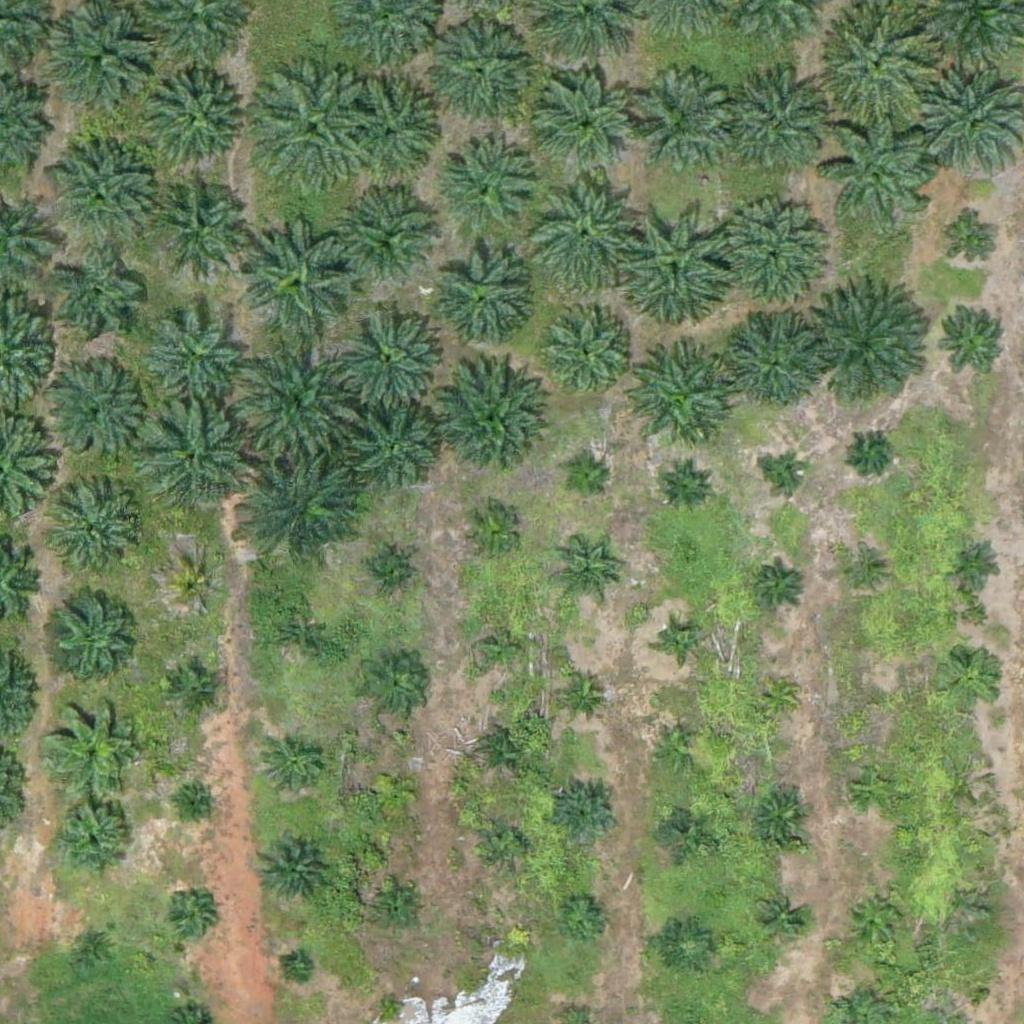Kelapa_Sawit: (615, 204, 740, 330), (523, 170, 648, 296), (248, 65, 373, 191), (233, 335, 358, 461), (241, 446, 366, 572), (811, 285, 936, 410), (432, 366, 545, 480), (823, 112, 936, 225), (712, 198, 825, 311), (141, 404, 254, 517), (46, 139, 159, 252), (333, 296, 445, 410), (243, 216, 355, 330), (824, 7, 936, 120), (621, 348, 733, 461), (722, 309, 822, 410), (728, 74, 828, 175), (627, 73, 727, 174), (537, 76, 637, 177), (536, 303, 636, 404), (425, 23, 525, 124), (437, 139, 537, 240), (339, 72, 439, 173), (145, 305, 245, 406), (49, 251, 149, 352), (44, 360, 144, 461), (42, 695, 142, 796), (429, 248, 529, 348), (342, 187, 442, 287), (142, 67, 242, 167), (151, 175, 251, 275), (54, 11, 154, 111), (55, 489, 143, 578), (49, 796, 137, 884), (351, 407, 439, 495), (49, 585, 136, 673), (255, 832, 330, 908), (935, 301, 1010, 376), (553, 546, 616, 609), (459, 500, 522, 563), (555, 782, 618, 845), (470, 617, 533, 680), (363, 655, 425, 718), (263, 734, 325, 797), (750, 786, 812, 849), (844, 887, 906, 950), (940, 647, 1002, 710), (267, 604, 329, 667), (662, 921, 712, 972), (660, 803, 710, 854), (480, 725, 530, 776), (949, 218, 999, 269), (556, 668, 606, 719), (481, 819, 531, 870), (360, 546, 410, 597), (369, 765, 419, 816), (557, 892, 607, 943), (755, 892, 805, 943), (170, 663, 220, 713), (660, 461, 710, 511), (754, 559, 804, 609), (950, 538, 1000, 588), (850, 763, 900, 813), (653, 723, 703, 773), (561, 456, 611, 506), (375, 886, 425, 936), (164, 892, 214, 942), (71, 924, 121, 974), (171, 563, 221, 613), (851, 431, 889, 469), (759, 677, 797, 715), (662, 622, 700, 660), (768, 457, 805, 495), (845, 555, 882, 593), (857, 684, 894, 722), (940, 982, 977, 1020), (284, 955, 309, 981), (377, 993, 402, 1018), (185, 791, 210, 816)
